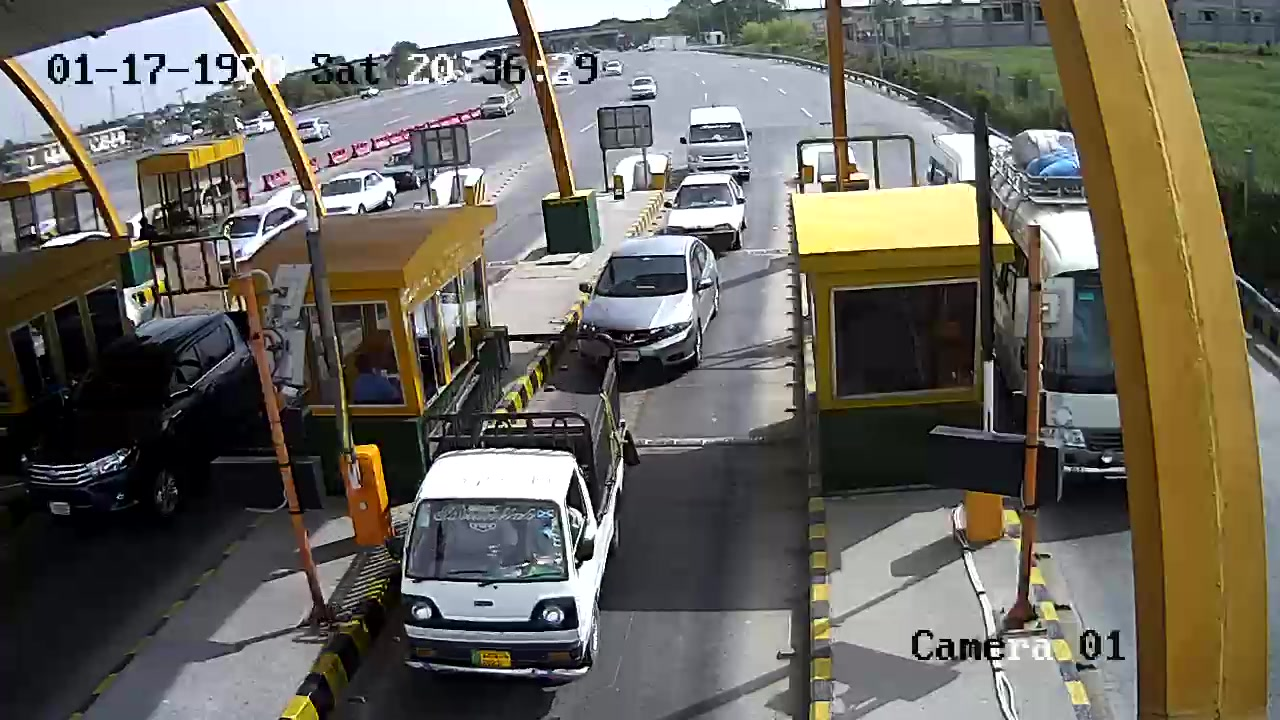F1: (393, 328, 640, 704), (573, 229, 728, 381)
